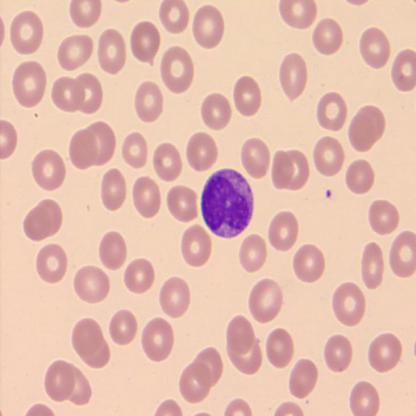Metamyelocyte: (198, 167, 258, 242)
